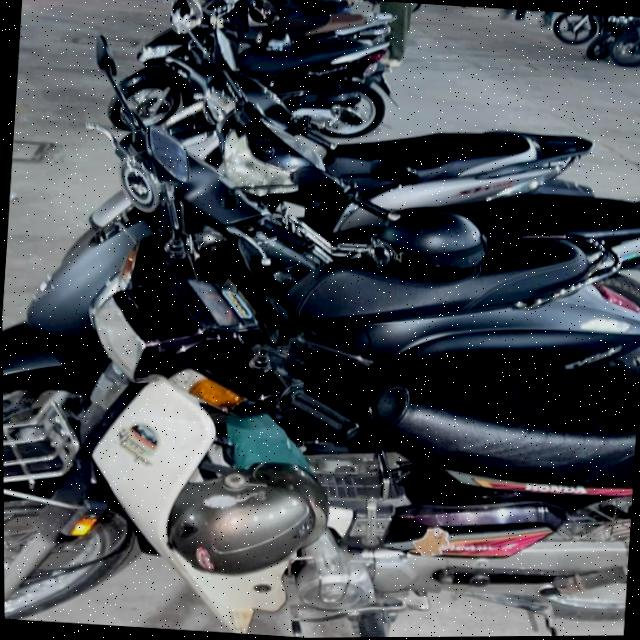motorcycle: (2, 250, 640, 640), (5, 91, 640, 358), (104, 0, 396, 145), (593, 13, 640, 72)
